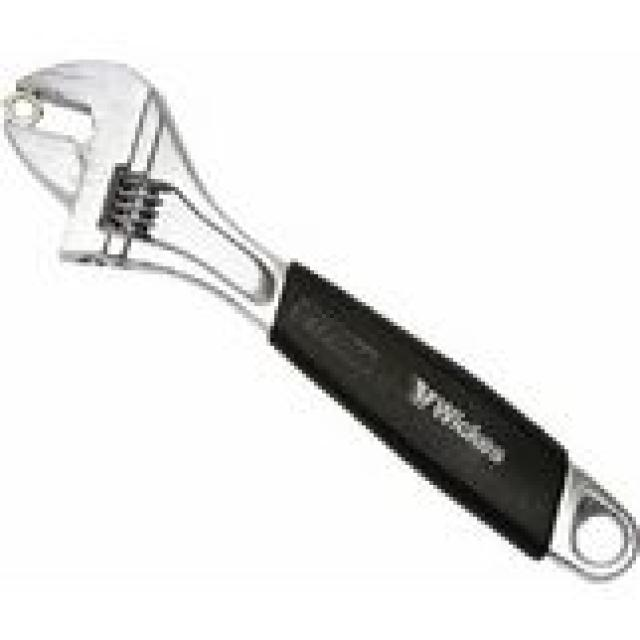wrench: (2, 11, 640, 638)
